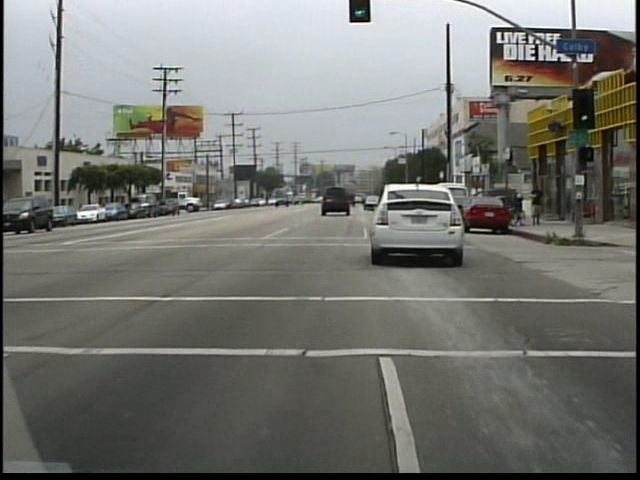person: (526, 178, 548, 231)
